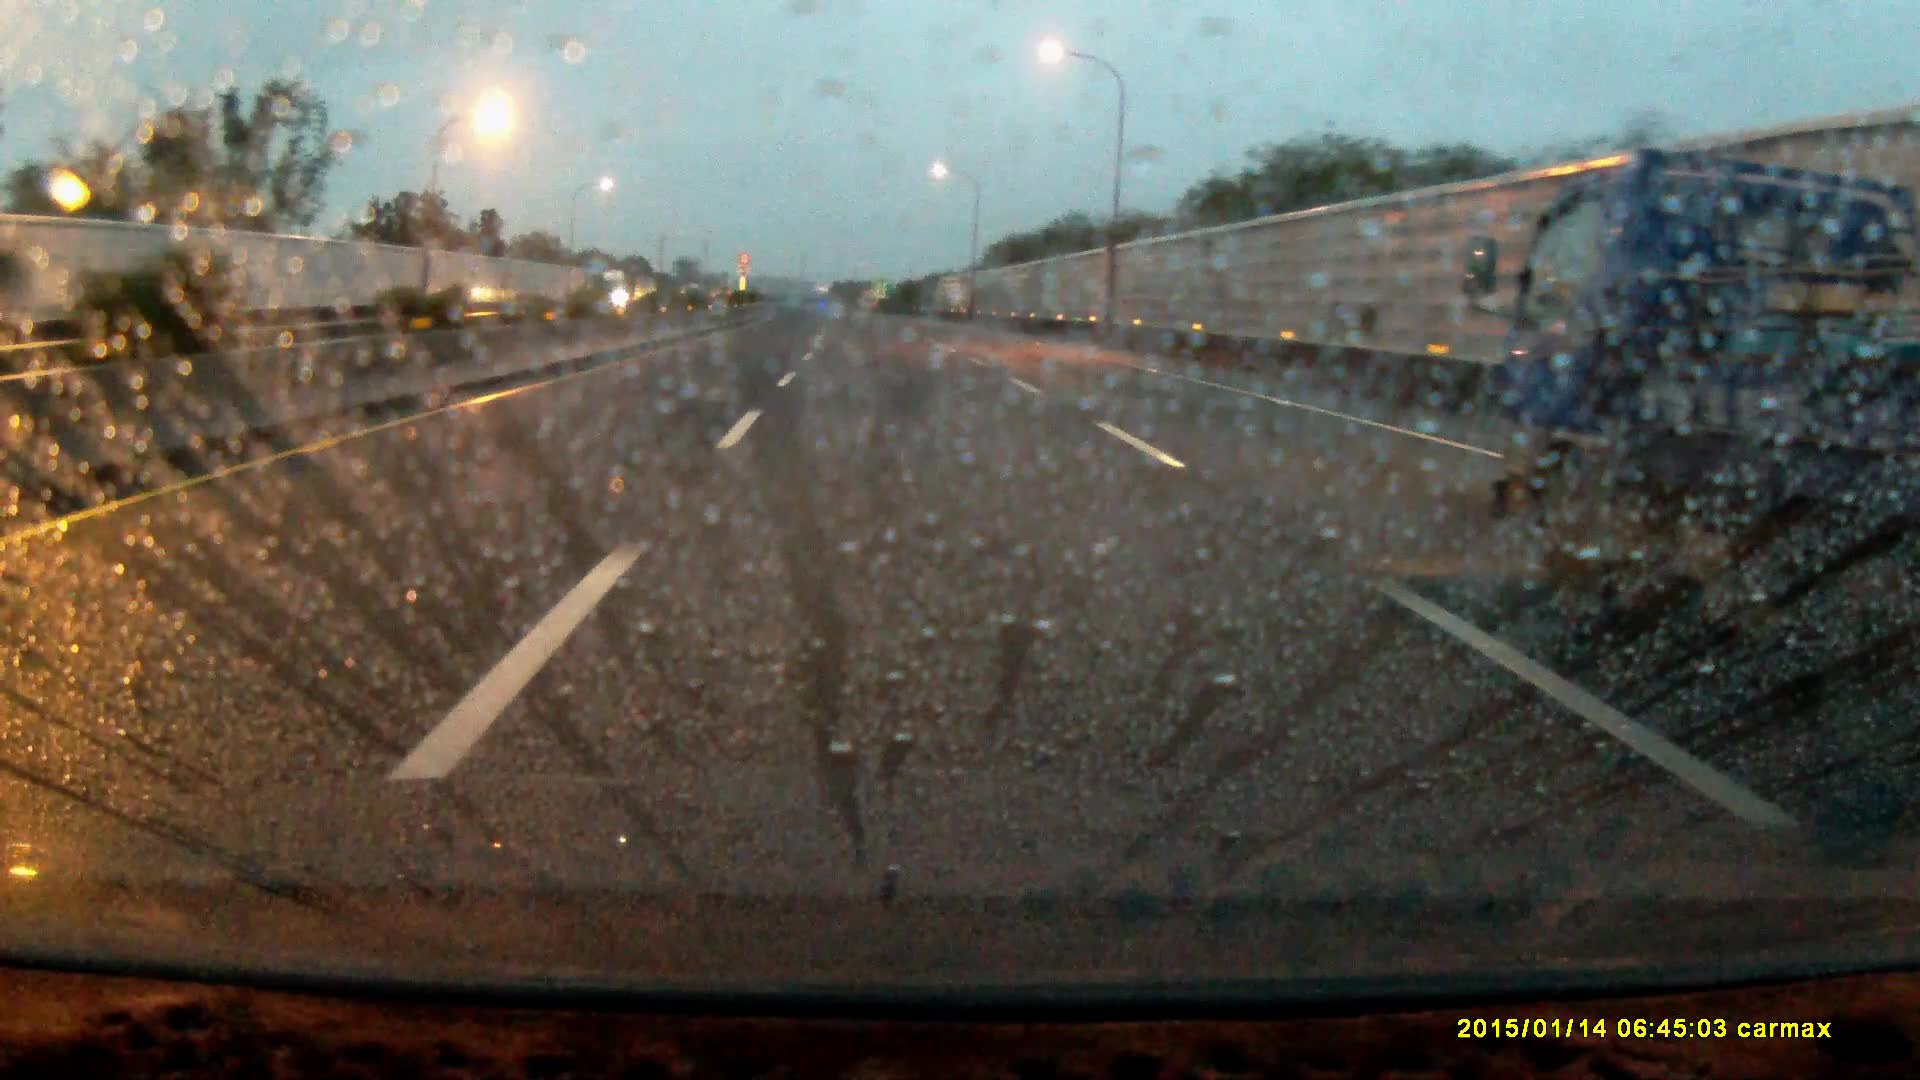vehicle: (1502, 152, 1920, 608), (597, 268, 636, 305)
